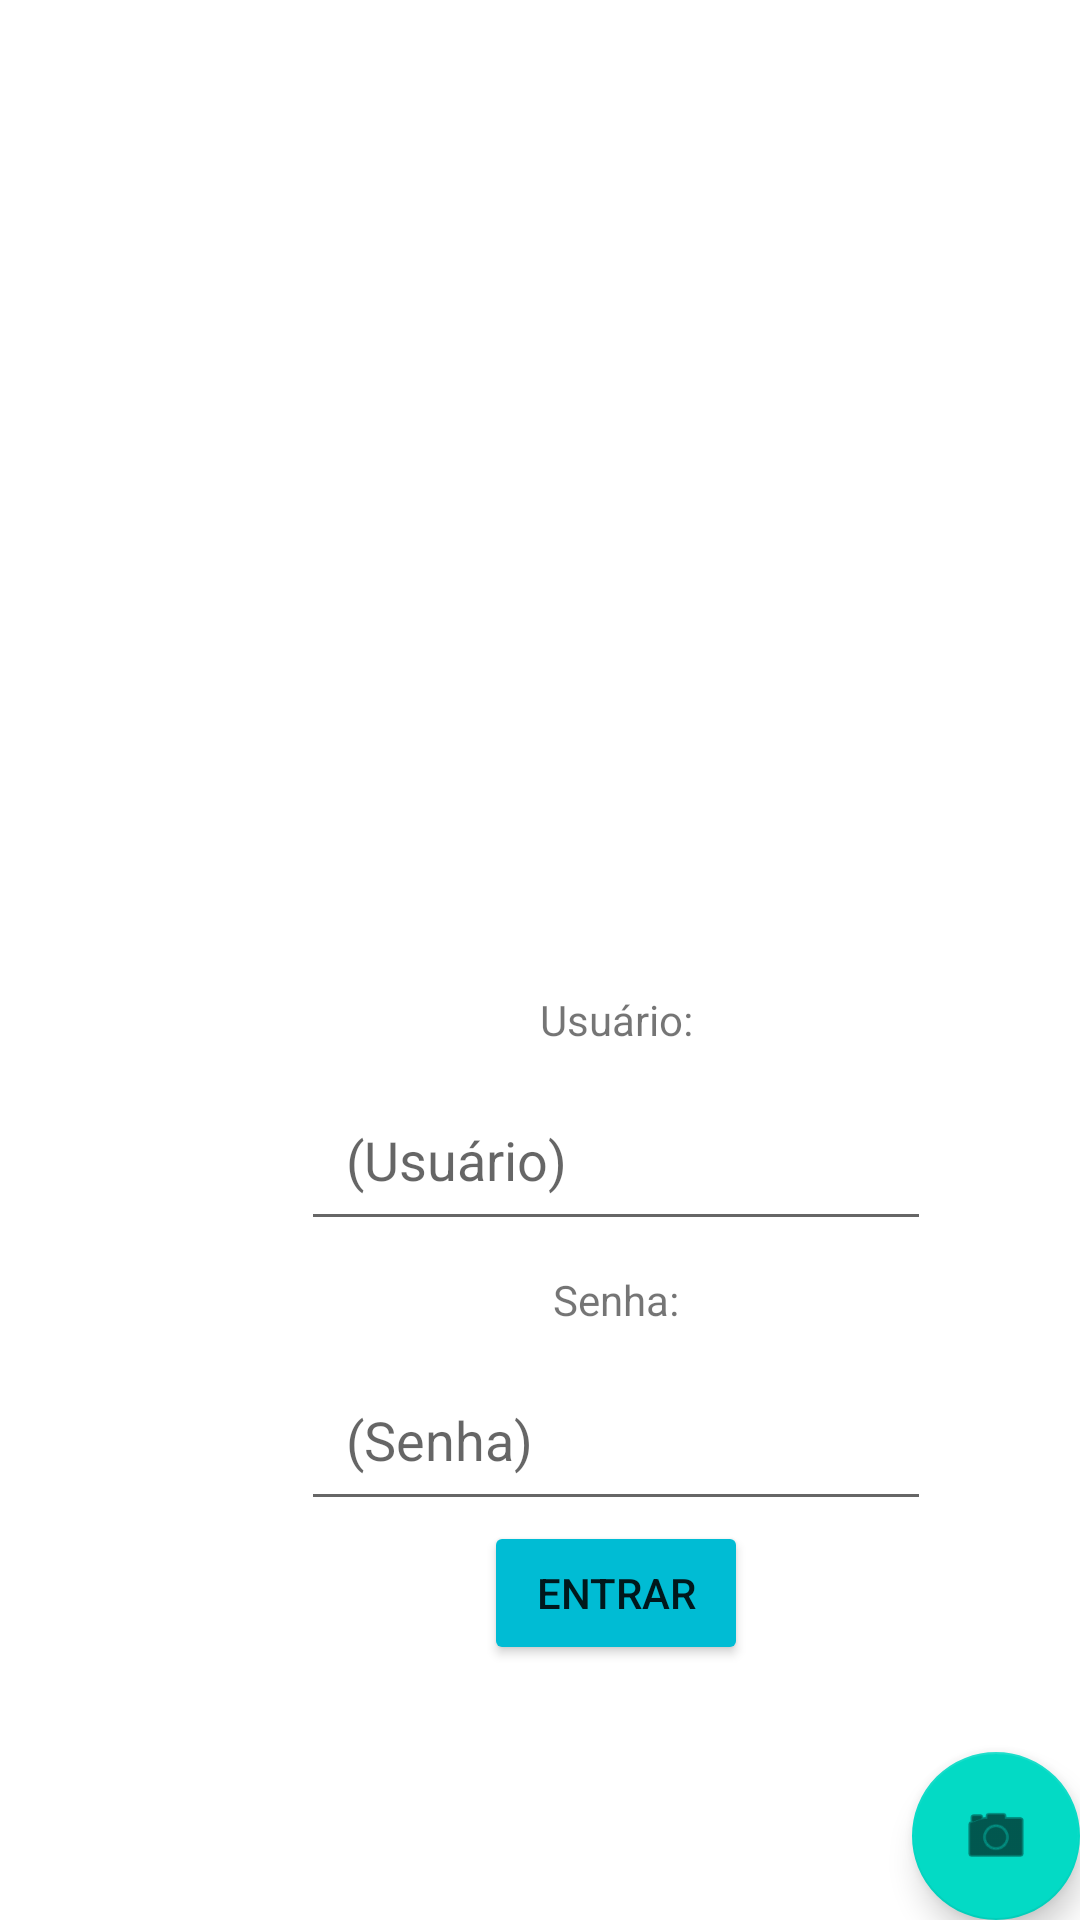

Icon bounding boxes for this 1080*1920 phone screenshot, format bbox(x1, y1, x2, y2):
camera: bbox(912, 1752, 1080, 1920)
